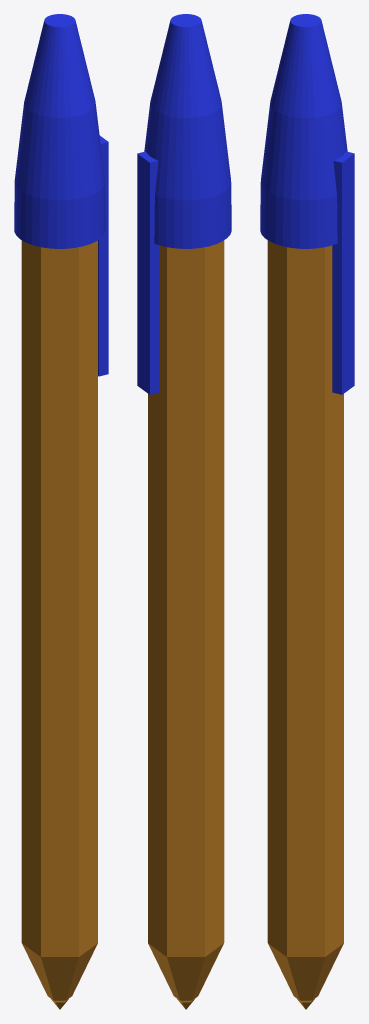
Rendered from Pen.fbx.
3 views of the same model, side by side, from view 1: azimuth 30°, elevation 25°; view 2: azimuth 210°, elevation 25°; view 3: azimuth 330°, elevation 25° (orthographic).
Visible parts, largest first — view 1: Cylinder; view 2: Cylinder; view 3: Cylinder.
Boxes of the visible parts, x1,y1,x2,y2 form: Cylinder: [14, 14, 108, 1009]; Cylinder: [137, 14, 231, 1009]; Cylinder: [260, 14, 354, 1009].
Size of the model in its own units: 124 by 1422 by 119.
